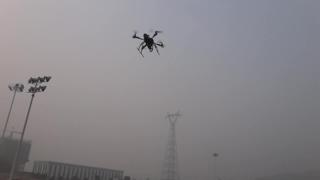UAV: (132, 31, 164, 58)
